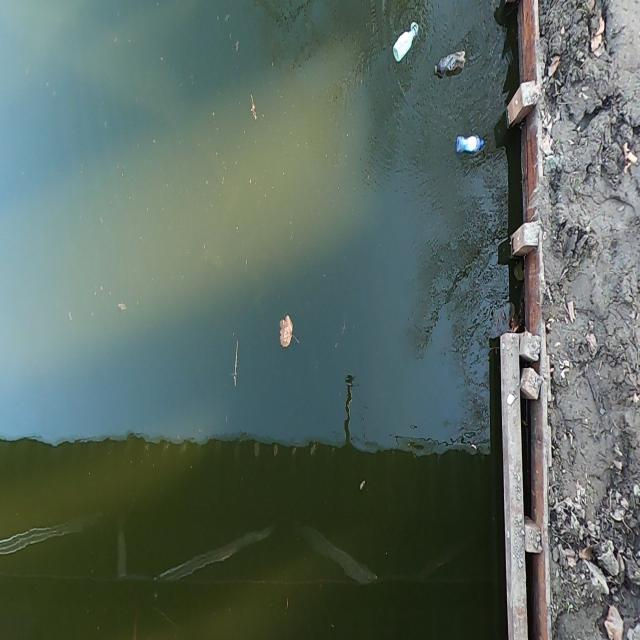Bouteille plastique: (430, 46, 470, 84), (390, 21, 420, 69), (453, 131, 486, 158)
